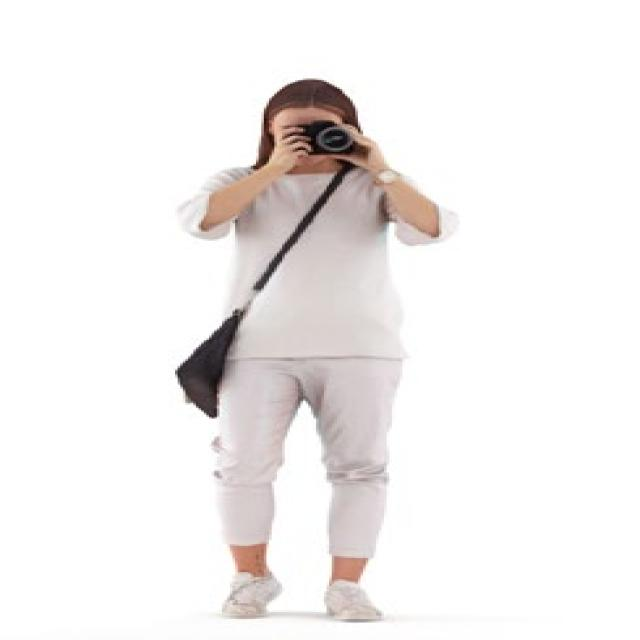standing: (172, 75, 461, 626)
